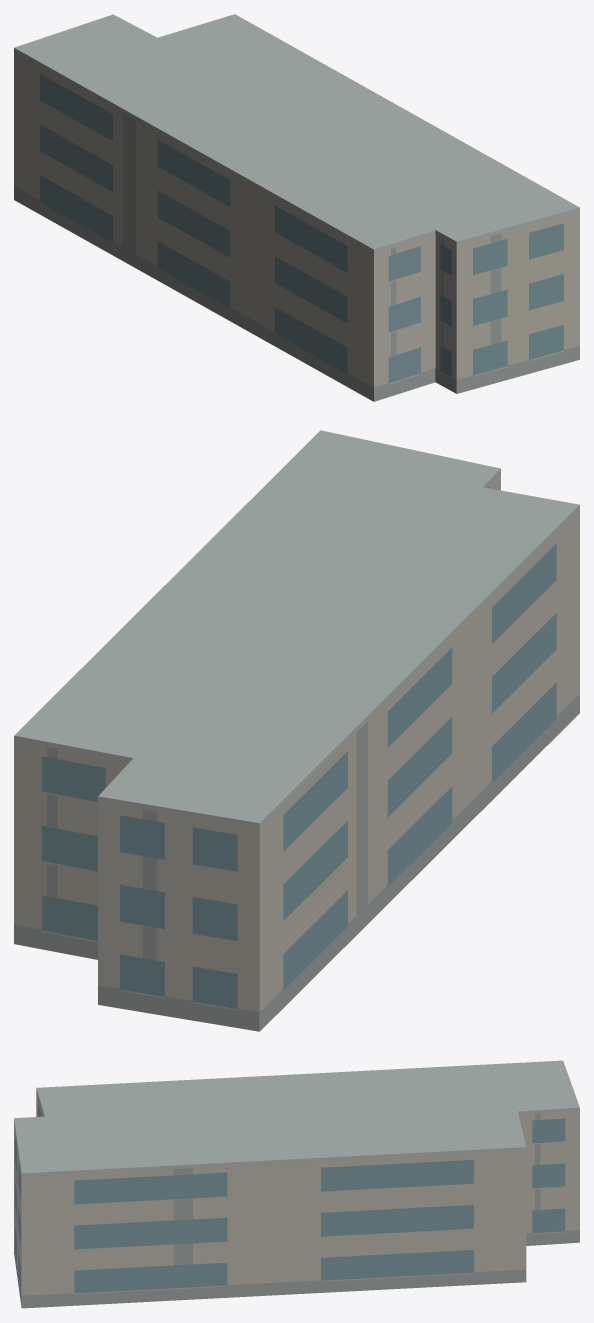
The model's file is survey-upis-32604048.glb.
The picture shows the model from 3 angles, top to bottom: view 1: azimuth 30°, elevation 25°; view 2: azimuth 150°, elevation 25°; view 3: azimuth 270°, elevation 25°; orthographic projection. The views are drawn at different scales.
Visible parts, largest first — view 1: survey-upis-32604048.tmp; view 2: survey-upis-32604048.tmp; view 3: survey-upis-32604048.tmp.
Part boxes in pixels (box(x1,y1,x2,y2)): survey-upis-32604048.tmp: box(14, 14, 579, 401); survey-upis-32604048.tmp: box(14, 430, 579, 1031); survey-upis-32604048.tmp: box(14, 1060, 579, 1308).
Bounding box in the file's own units: 16.4 × 9.15 × 34.75.
